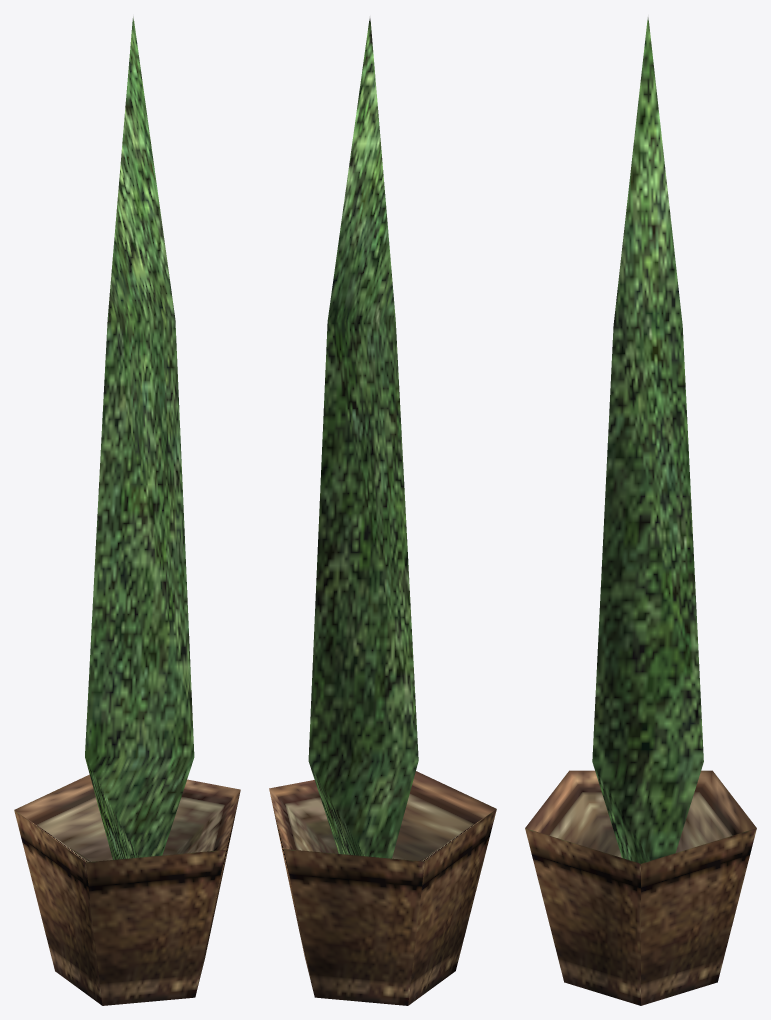
Rendered from wrld_cypress_potted_b.glb.
3 renders of one model, left to right at view 1: azimuth 30°, elevation 25°; view 2: azimuth 150°, elevation 25°; view 3: azimuth 270°, elevation 25°, orthographic.
Parts seen in each view (by area): view 1: wrld_cypress_potted_b; view 2: wrld_cypress_potted_b; view 3: wrld_cypress_potted_b.
Part boxes in pixels (box(x1,y1,x2,y2)): wrld_cypress_potted_b: box(14, 14, 240, 1005); wrld_cypress_potted_b: box(269, 15, 496, 1005); wrld_cypress_potted_b: box(525, 14, 756, 1005).
Bounding box in the file's own units: 1.17 × 5.61 × 1.23.
Materials: 1 (1 with a texture image).
